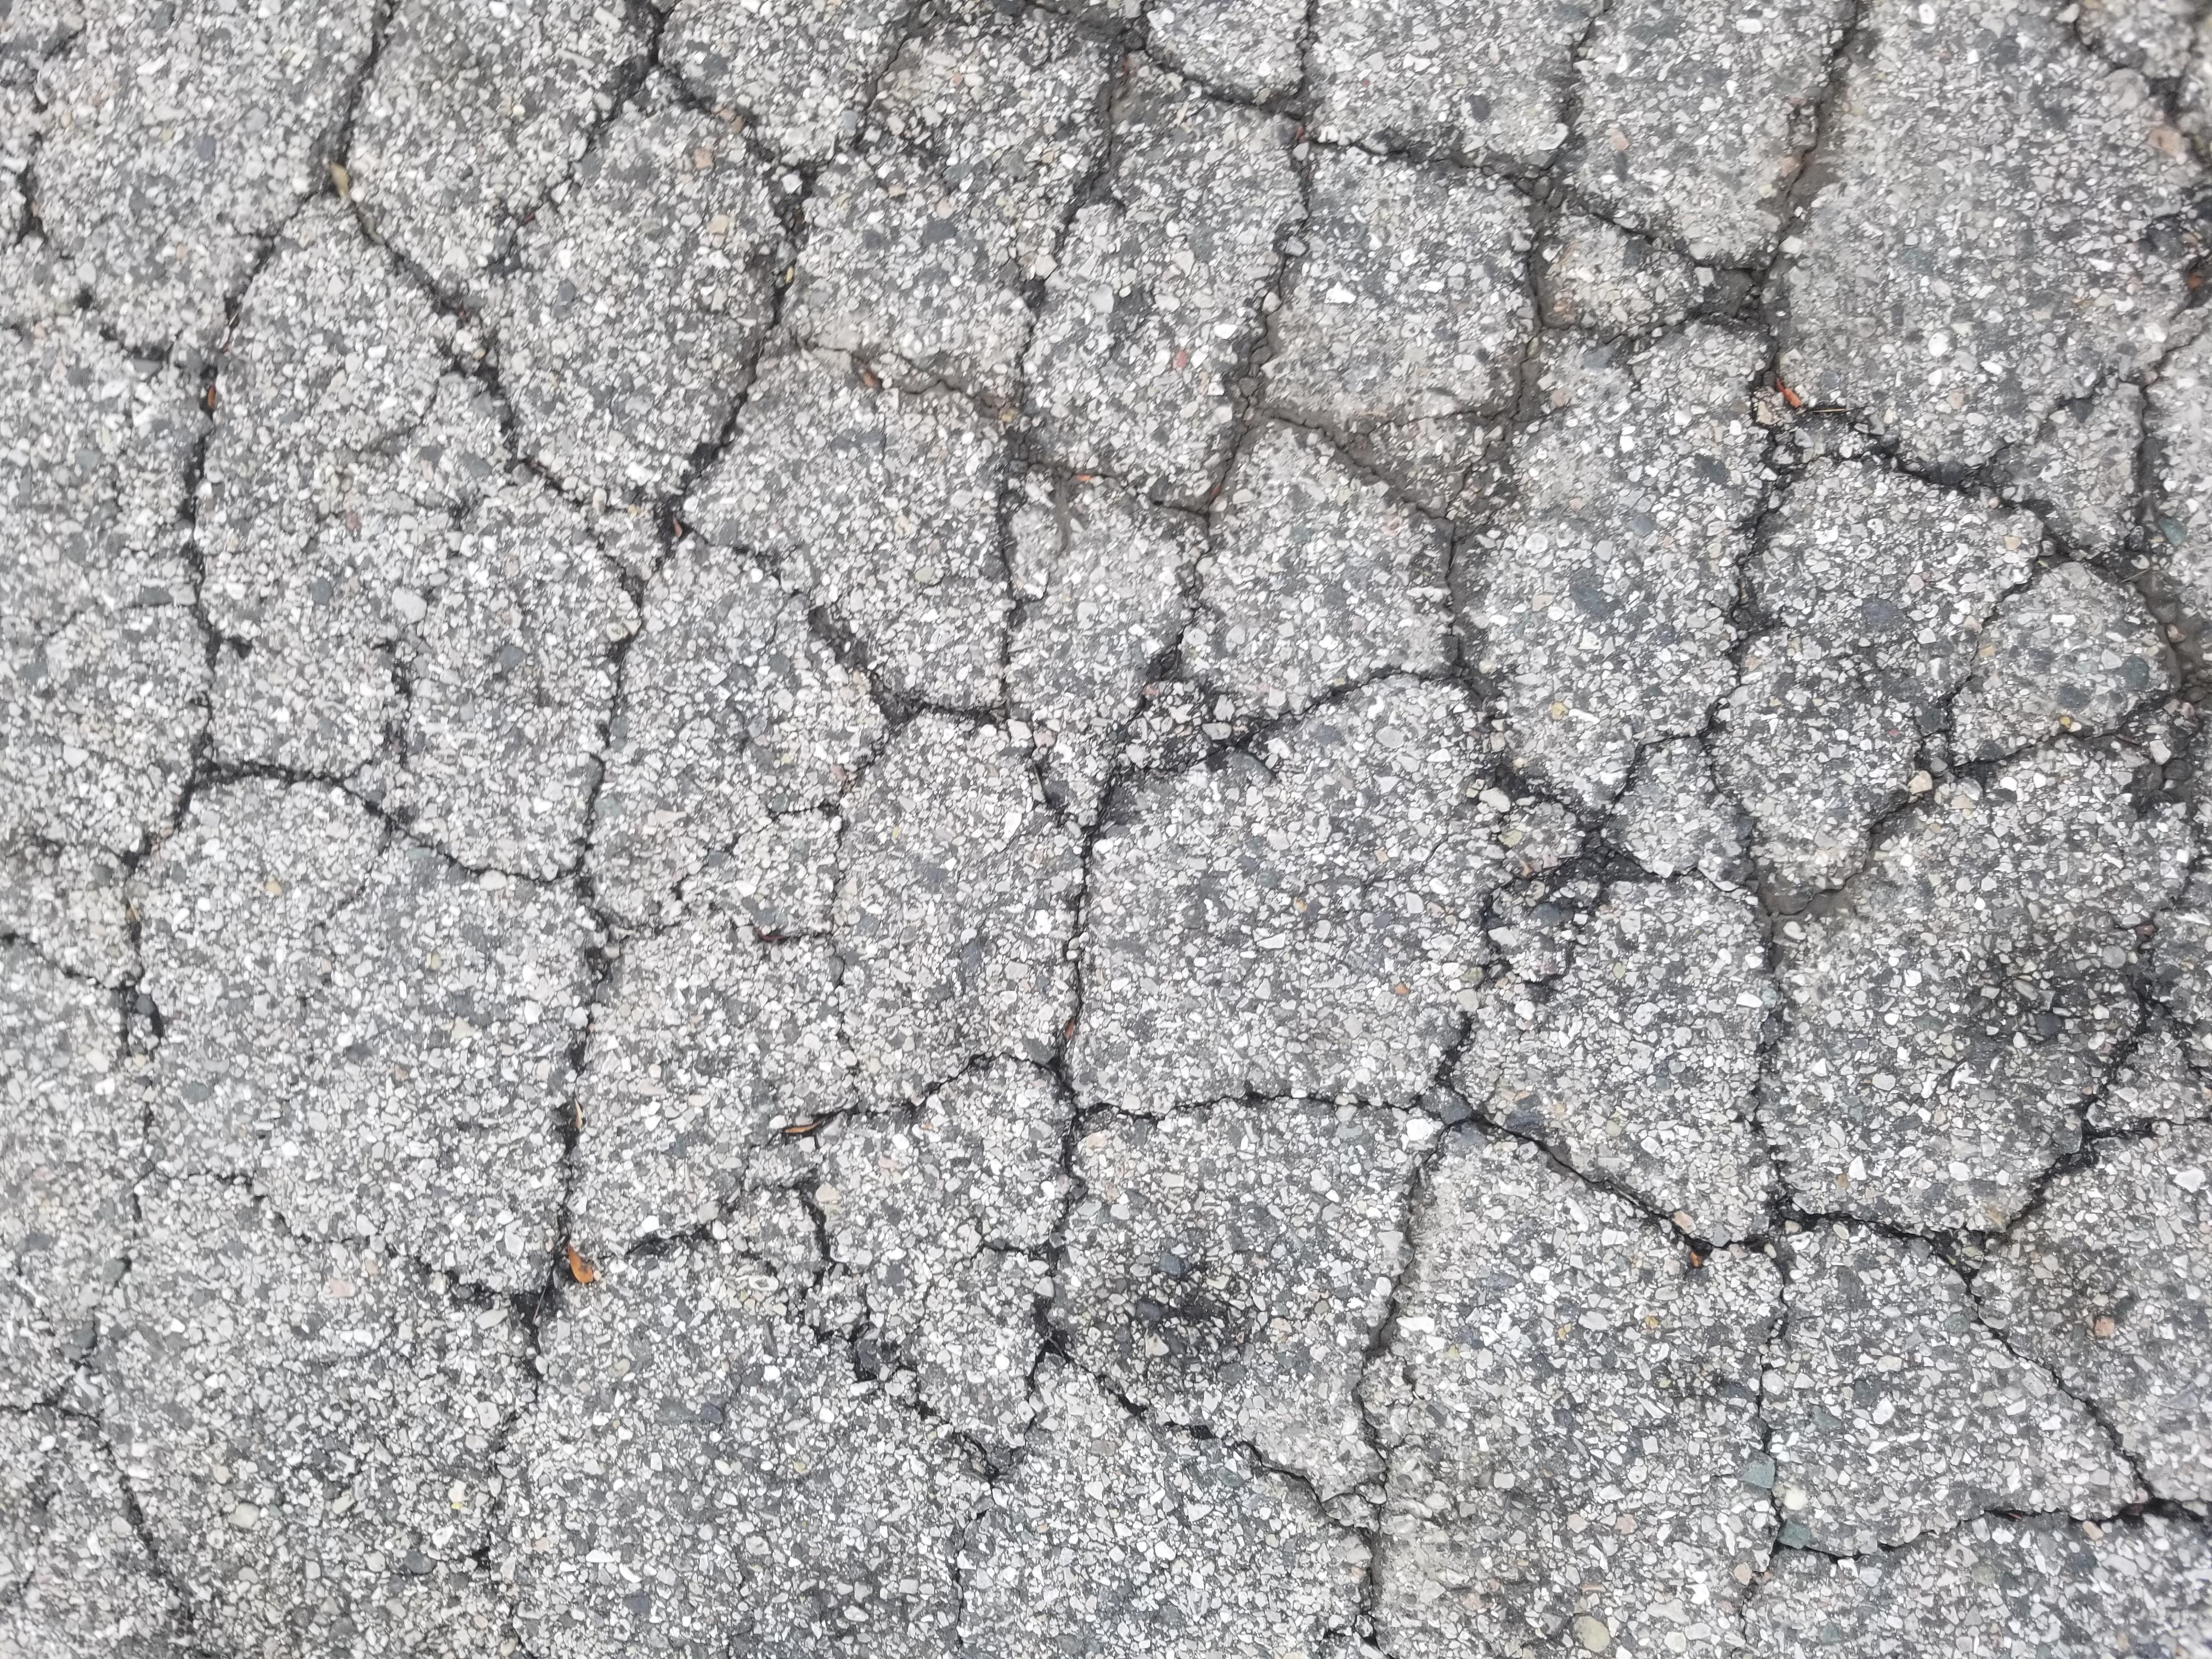alligator-crack: (61, 87, 2212, 1659)
